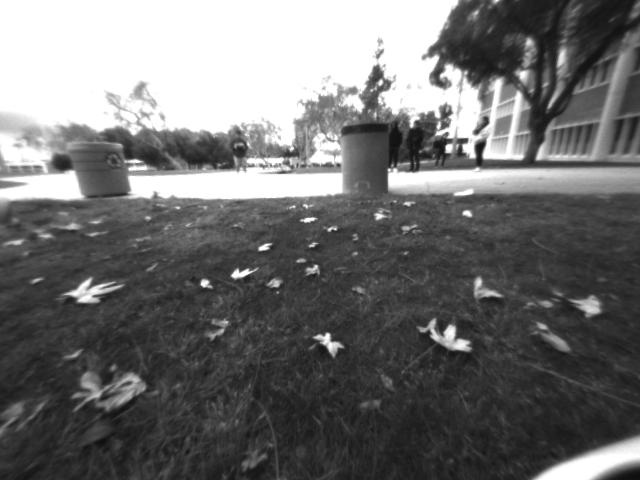trashcan: (337, 124, 391, 200), (71, 140, 136, 200)
